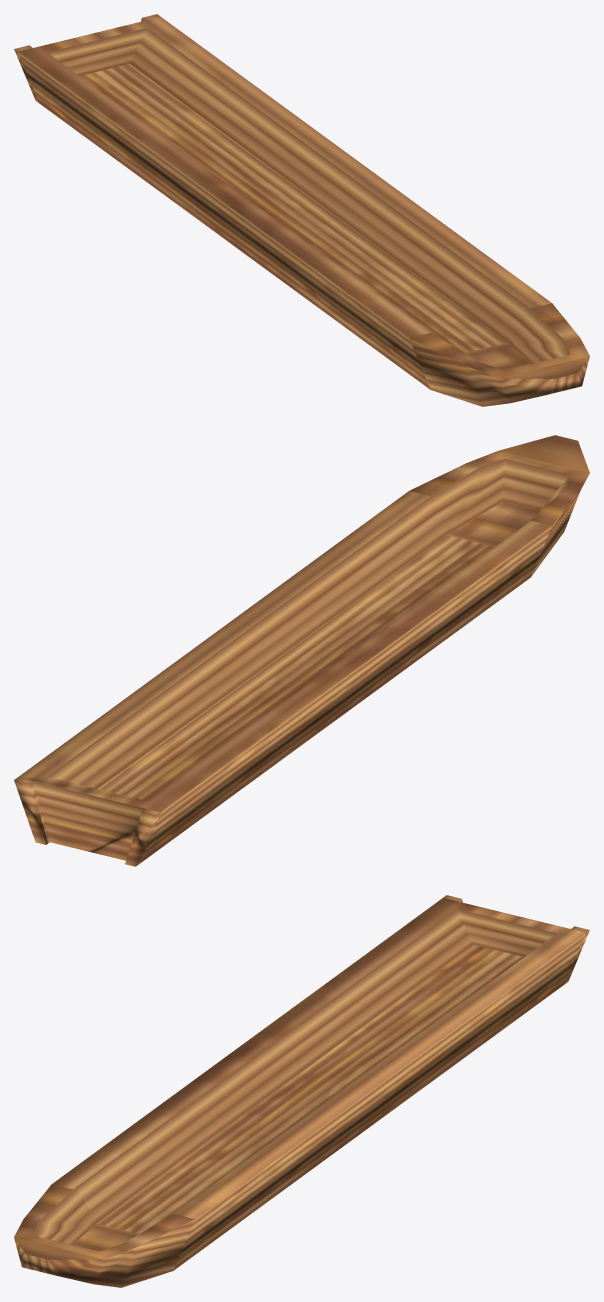
Rendered from canoe_1.dae.
3 views of the same model, one above another, from view 1: azimuth 30°, elevation 25°; view 2: azimuth 150°, elevation 25°; view 3: azimuth 330°, elevation 25° (orthographic).
Parts seen in each view (by area): view 1: canoe; view 2: canoe; view 3: canoe.
Boxes of the visible parts, <box> form: canoe: <box>14,14,589,406</box>; canoe: <box>14,435,589,866</box>; canoe: <box>14,895,589,1287</box>.
Size of the model in its own units: 2.34 by 13.59 by 1.01.
